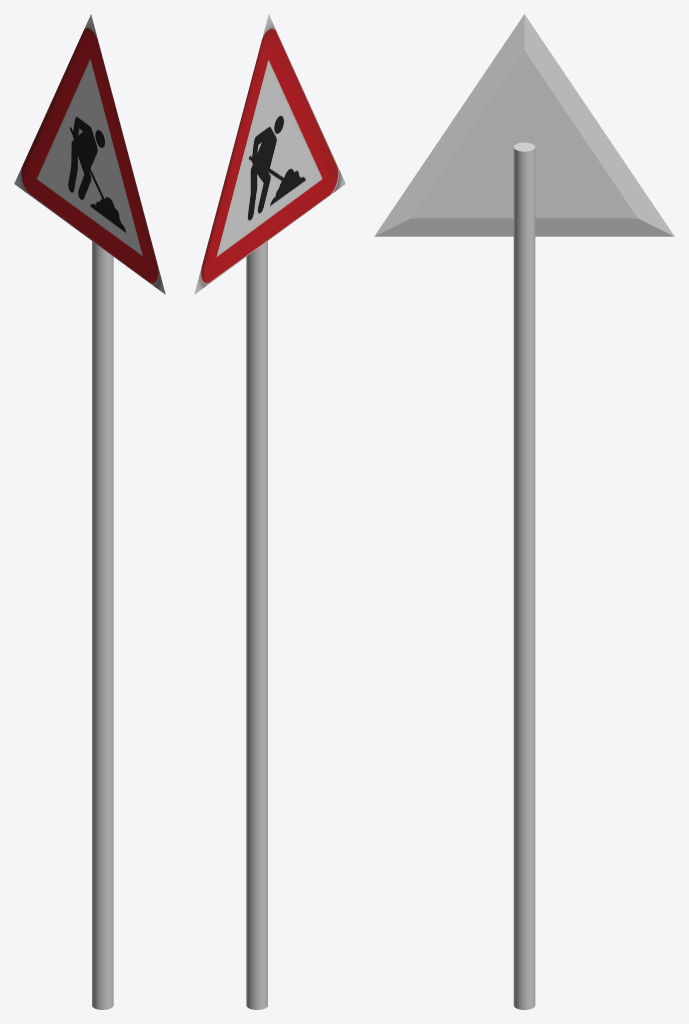
File: kazi_calismasi.dae
The picture shows the model from 3 angles, left to right: view 1: azimuth 30°, elevation 25°; view 2: azimuth 150°, elevation 25°; view 3: azimuth 270°, elevation 25°; orthographic projection.
Parts seen in each view (by area): view 1: Icosphere, Cylinder; view 2: Icosphere, Cylinder; view 3: Icosphere, Cylinder.
Part boxes in pixels (left/top/right/bottom): Icosphere: left=14, top=14, right=165, bottom=294; Cylinder: left=92, top=241, right=113, bottom=1009; Icosphere: left=194, top=14, right=345, bottom=294; Cylinder: left=246, top=241, right=267, bottom=1009; Icosphere: left=374, top=14, right=674, bottom=236; Cylinder: left=513, top=142, right=535, bottom=1009.
Size of the model in its own units: 0.0591 by 0.6986 by 2.53.
Materials: 1 (1 with a texture image).
